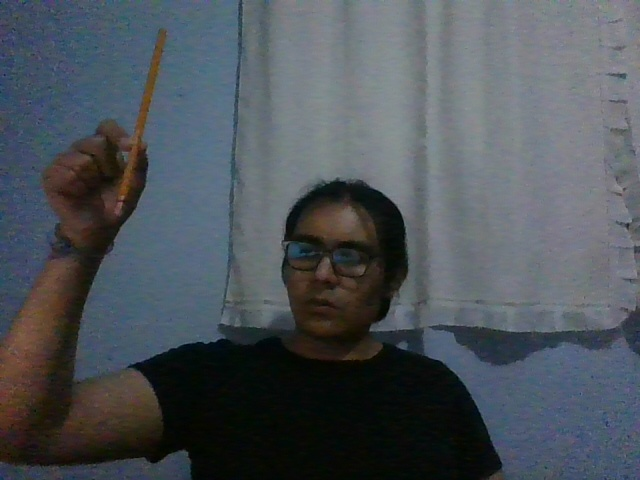lapiz: (113, 27, 167, 217)
